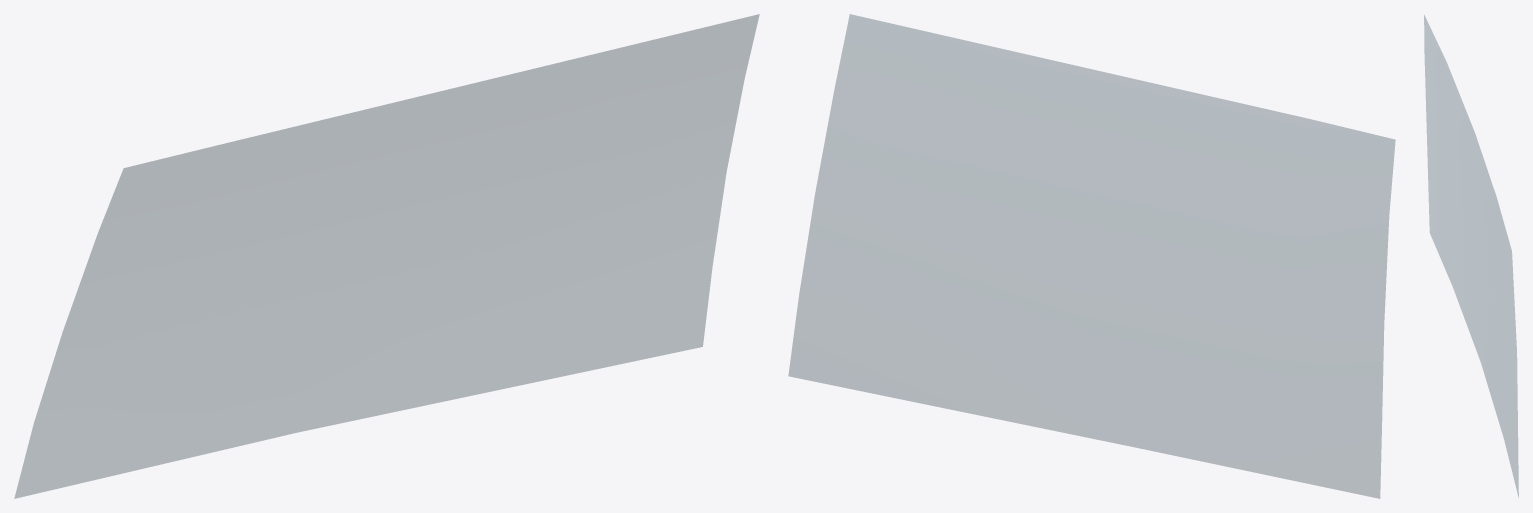
The picture shows the model from 3 angles, left to right: view 1: azimuth 30°, elevation 25°; view 2: azimuth 150°, elevation 25°; view 3: azimuth 270°, elevation 25°; orthographic projection. The views are drawn at different scales.
Parts seen in each view (by area): view 1: SM_NissanPatrol_Door_RL_Glass_Int2; view 2: SM_NissanPatrol_Door_RL_Glass_Int2; view 3: SM_NissanPatrol_Door_RL_Glass_Int2.
Boxes of the visible parts, left/top/right/bottom form: SM_NissanPatrol_Door_RL_Glass_Int2: left=14, top=14, right=759, bottom=498; SM_NissanPatrol_Door_RL_Glass_Int2: left=788, top=14, right=1395, bottom=498; SM_NissanPatrol_Door_RL_Glass_Int2: left=1424, top=15, right=1518, bottom=497.
Size of the model in its own units: 0.9371 by 0.4998 by 0.1609.
